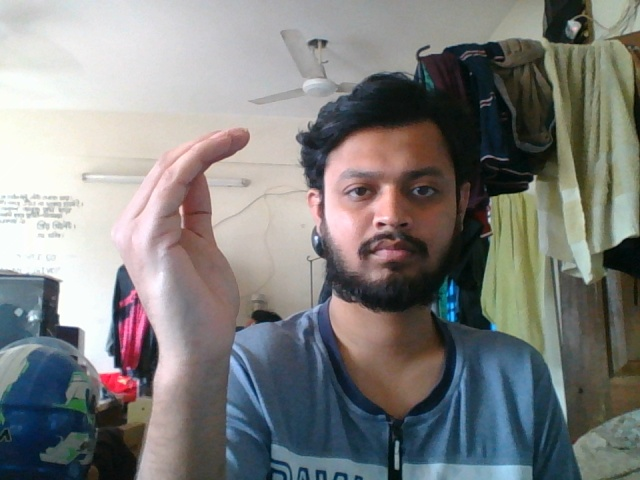ga: (114, 123, 261, 464)
